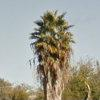Palm tree: (28, 7, 80, 99)
